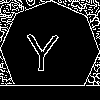Y: (25, 25, 60, 72)
